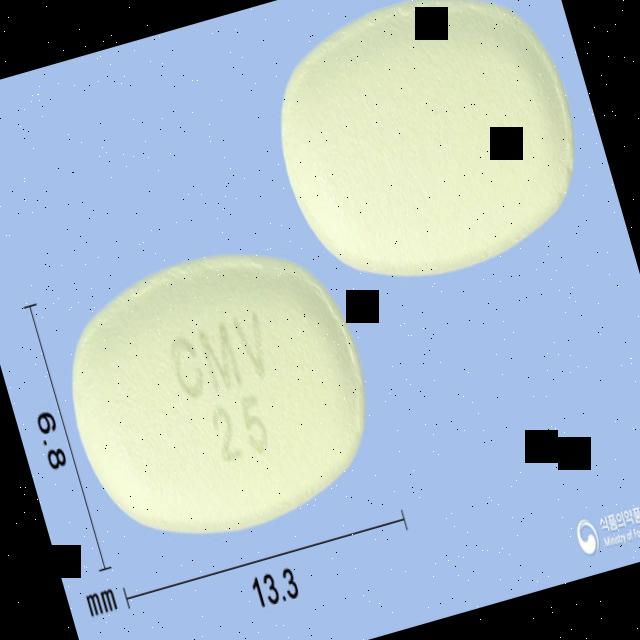Clocide: (40, 218, 396, 570)
